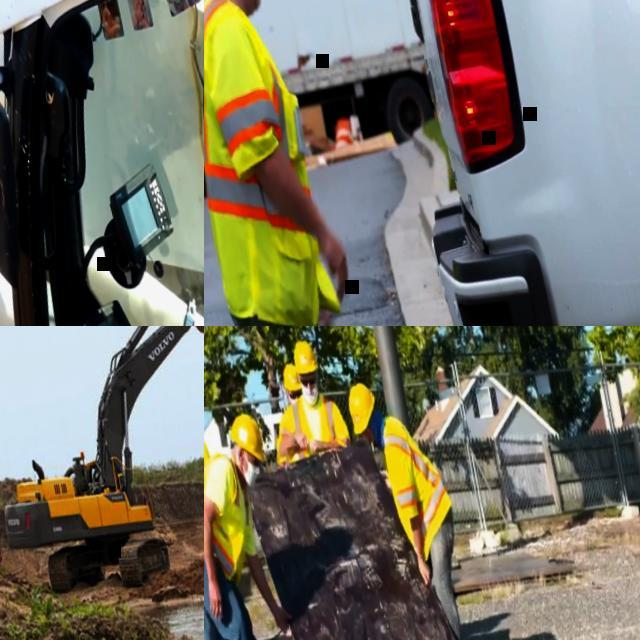helmet: (344, 379, 382, 434), (226, 410, 264, 463), (291, 336, 320, 375), (280, 361, 302, 394)
vest: (204, 0, 345, 326), (378, 408, 460, 558), (204, 446, 260, 589), (286, 391, 350, 456), (204, 420, 221, 547)
